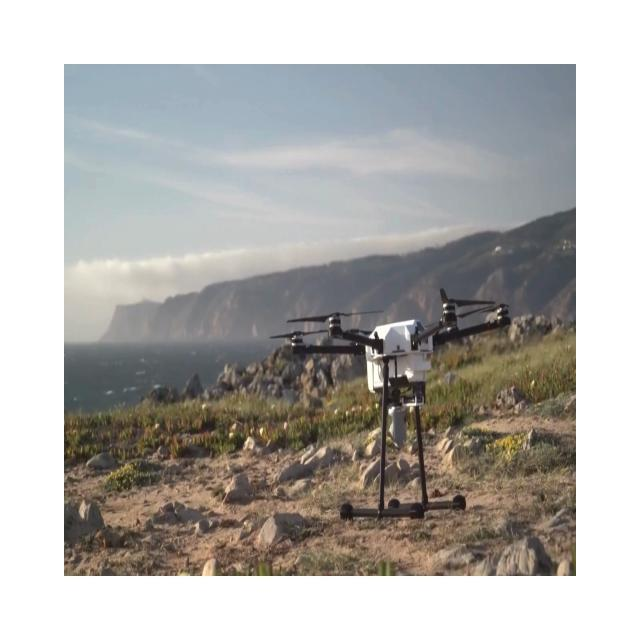drone: (269, 286, 511, 522)
